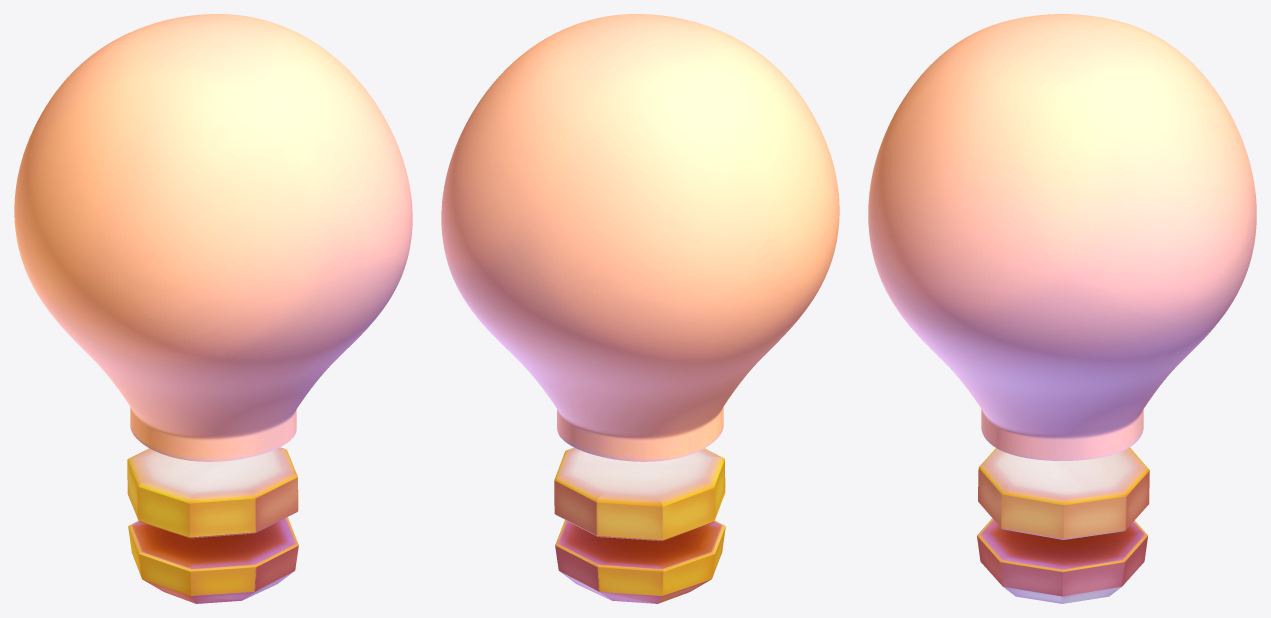
File: INCONOGRAPHY_Expert_v16.glb
3 views of the same model, side by side, from view 1: azimuth 30°, elevation 25°; view 2: azimuth 150°, elevation 25°; view 3: azimuth 270°, elevation 25° (orthographic).
Visible parts, largest first — view 1: BULB, BULB_MIDDLE, BULB_BOTTOM; view 2: BULB, BULB_MIDDLE, BULB_BOTTOM; view 3: BULB, BULB_MIDDLE, BULB_BOTTOM.
Boxes of the visible parts, left/top/right/bottom form: BULB: left=14, top=14, right=412, bottom=461; BULB_MIDDLE: left=127, top=447, right=298, bottom=538; BULB_BOTTOM: left=128, top=517, right=298, bottom=603; BULB: left=441, top=14, right=839, bottom=461; BULB_MIDDLE: left=554, top=447, right=725, bottom=541; BULB_BOTTOM: left=555, top=520, right=725, bottom=603; BULB: left=868, top=14, right=1256, bottom=460; BULB_MIDDLE: left=978, top=447, right=1149, bottom=539; BULB_BOTTOM: left=977, top=518, right=1147, bottom=603.
Size of the model in its own units: 0.5578 by 0.8689 by 0.5549.
Materials: 9 (7 with a texture image).
